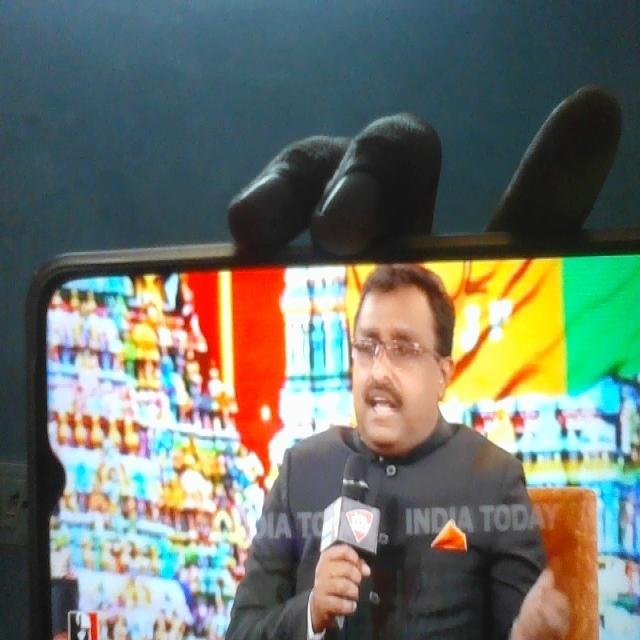fake: (338, 243, 453, 460)
